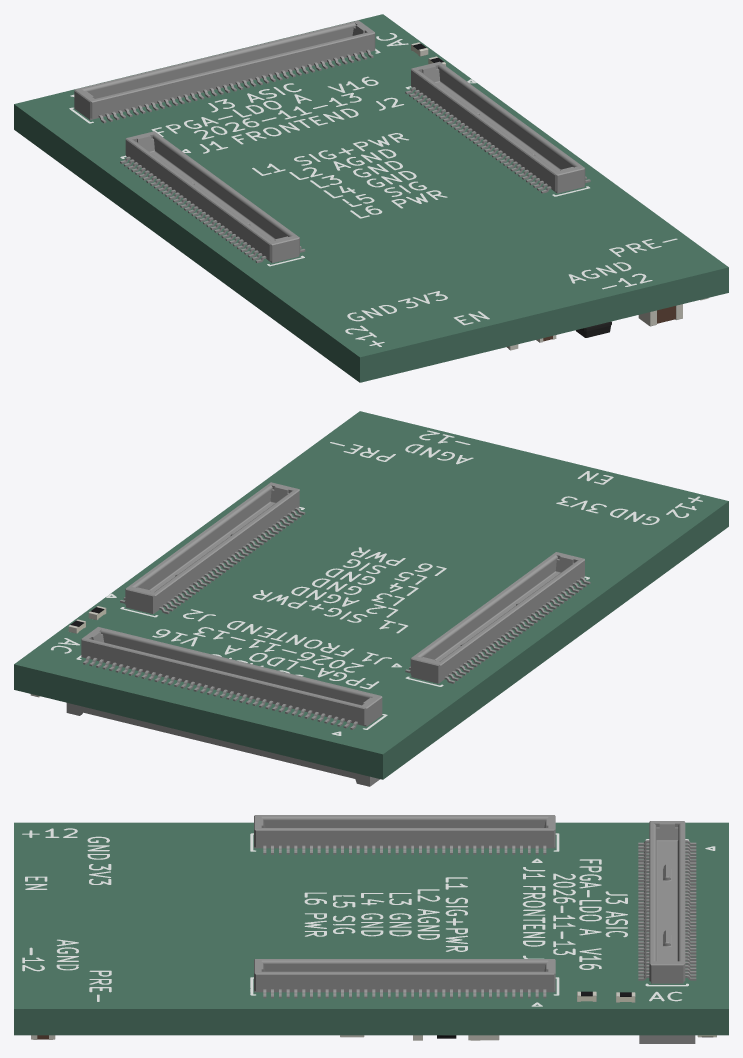
Rendered from fpga-ldo-a-v16.glb.
The picture shows the model from 3 angles, top to bottom: view 1: azimuth 30°, elevation 25°; view 2: azimuth 150°, elevation 25°; view 3: azimuth 270°, elevation 25°; orthographic projection. The views are drawn at different scales.
Visible parts, largest first — view 1: =>[0:1:1:40], =>[0:1:1:5] (×2), =>[0:1:1:3], =>[0:1:1:38], =>[0:1:1:11]; view 2: =>[0:1:1:40], =>[0:1:1:5] (×2), =>[0:1:1:3], =>[0:1:1:38], =>[0:1:1:27]; view 3: =>[0:1:1:40], =>[0:1:1:5] (×2), =>[0:1:1:3], =>[0:1:1:38], =>[0:1:1:27].
Boxes of the visible parts, <box> form: =>[0:1:1:40]: <box>14,14,728,382</box>; =>[0:1:1:5] (×2): <box>120,61,590,263</box>; =>[0:1:1:3]: <box>74,20,375,123</box>; =>[0:1:1:38]: <box>69,33,677,346</box>; =>[0:1:1:11]: <box>638,304,682,326</box>; =>[0:1:1:40]: <box>14,411,728,779</box>; =>[0:1:1:5] (×2): <box>120,482,590,683</box>; =>[0:1:1:3]: <box>81,627,382,729</box>; =>[0:1:1:38]: <box>51,430,702,735</box>; =>[0:1:1:27]: <box>66,703,379,786</box>; =>[0:1:1:40]: <box>14,822,728,1035</box>; =>[0:1:1:5] (×2): <box>254,815,555,998</box>; =>[0:1:1:3]: <box>638,821,696,983</box>; =>[0:1:1:38]: <box>22,828,715,1006</box>; =>[0:1:1:27]: <box>639,1035,695,1043</box>.
Bounding box in the file's own units: 0.0226 × 0.0044 × 0.0368.
